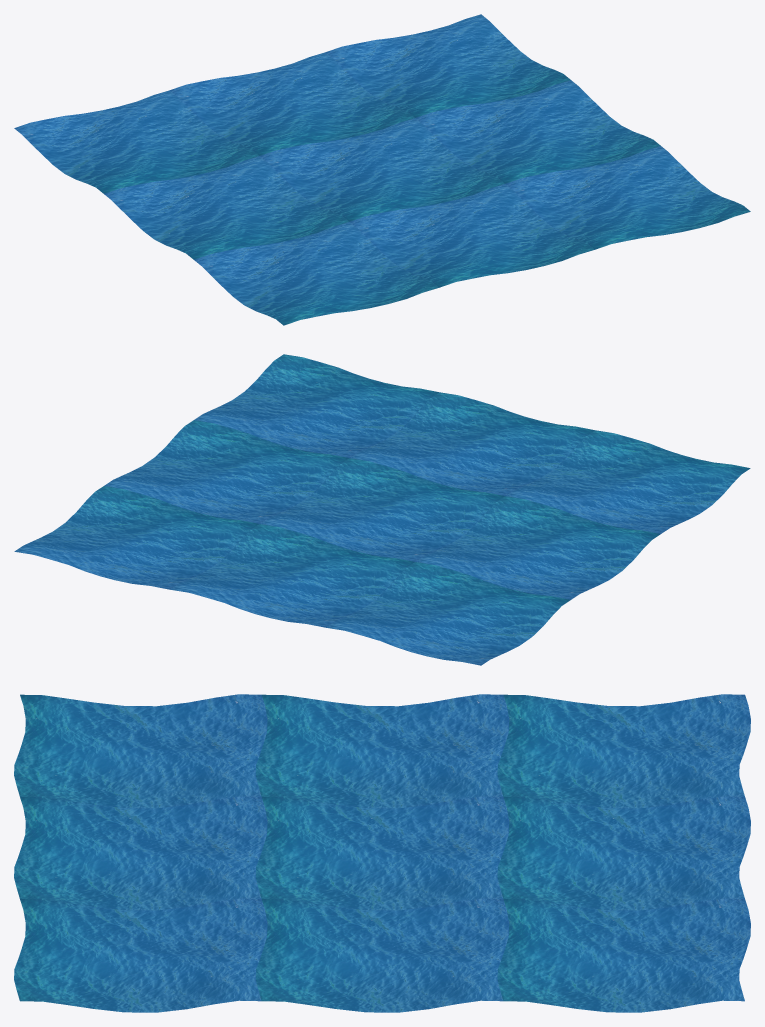
Rendered from ocean_000115.obj.
3 views of the same model, one above another, from view 1: azimuth 30°, elevation 25°; view 2: azimuth 150°, elevation 25°; view 3: azimuth 270°, elevation 25° (orthographic). The views are drawn at different scales.
Visible parts, largest first — view 1: Ocean_Plan.001; view 2: Ocean_Plan.001; view 3: Ocean_Plan.001.
Part boxes in pixels (x1=…): Ocean_Plan.001: x1=14, y1=14, x2=750, y2=325; Ocean_Plan.001: x1=14, y1=354, x2=750, y2=665; Ocean_Plan.001: x1=14, y1=694, x2=750, y2=1012.
Size of the model in its own units: 109278 by 2475 by 110740.
1 material, 1 textured.
